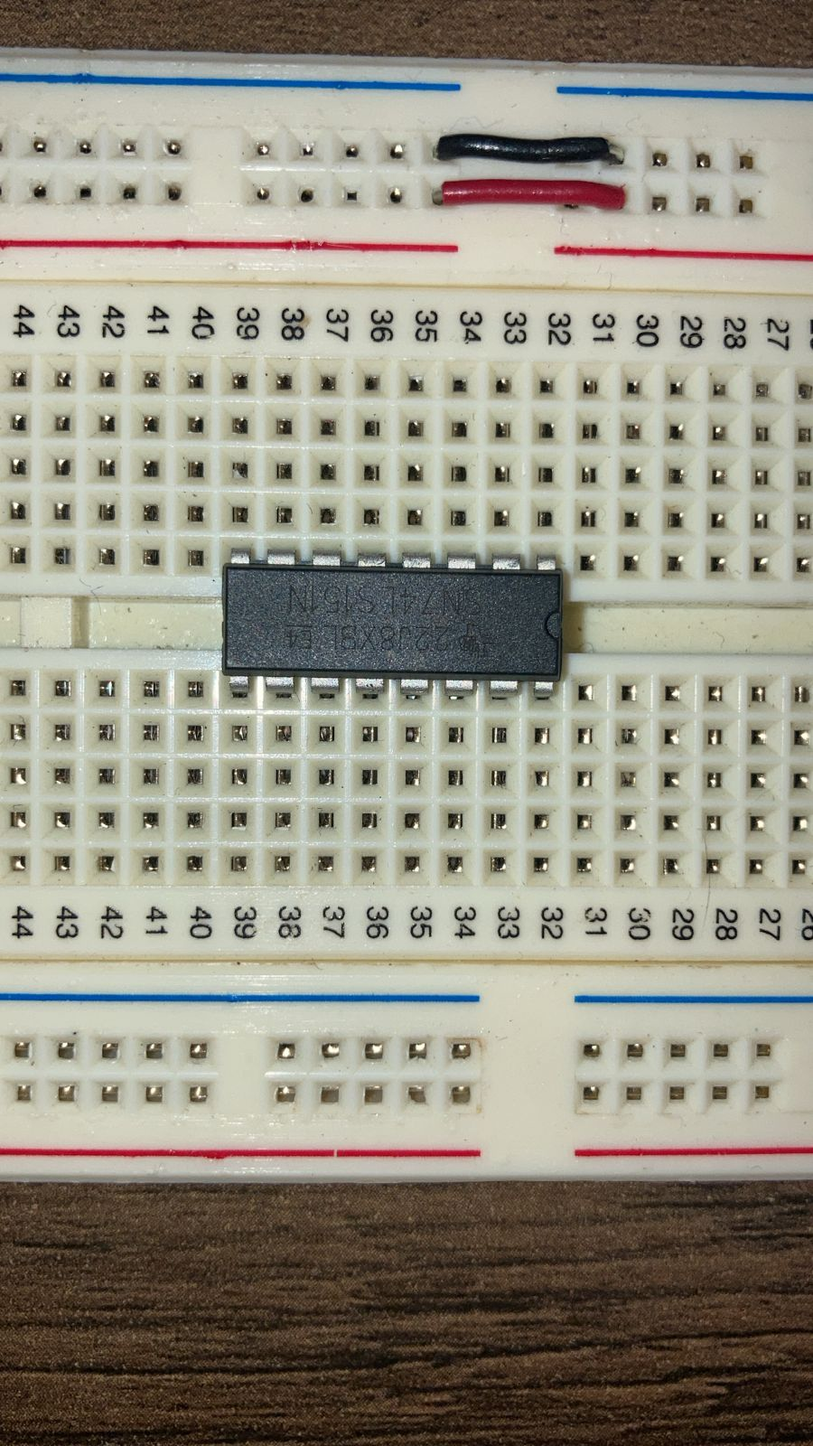IC: (217, 544, 567, 707)
notch: (543, 608, 566, 646)
